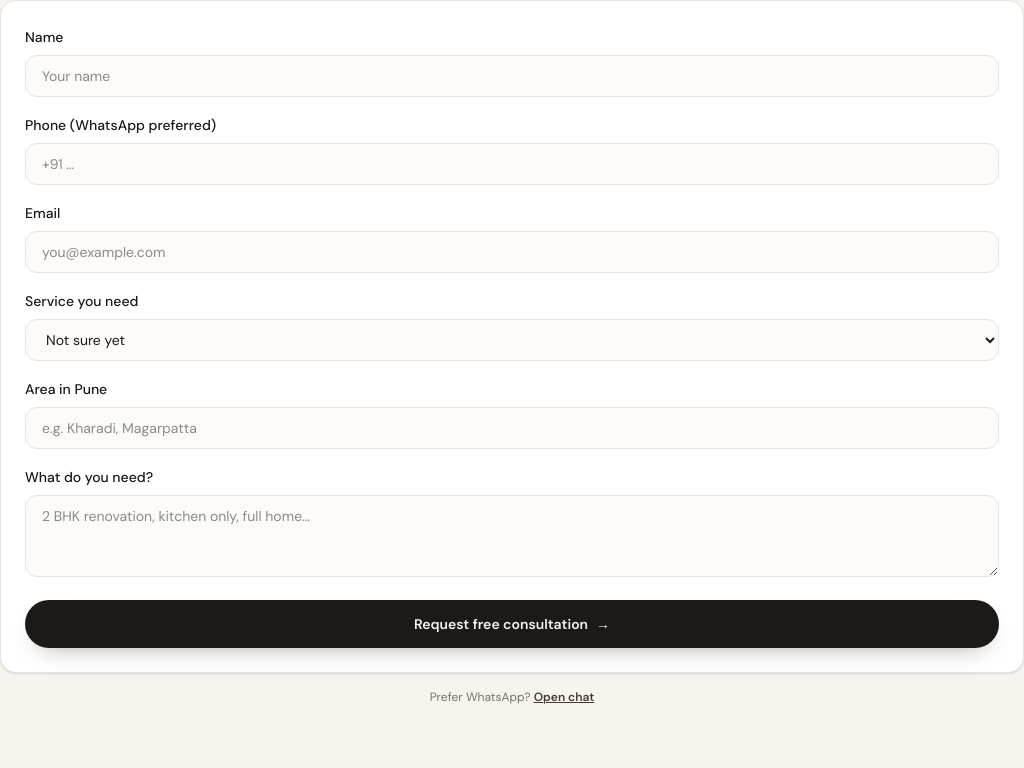
LeadForm › submits and shows success when API returns ok
Type "Test User" into the field labelled "Name" at (512, 76), box [25,55,999,97]
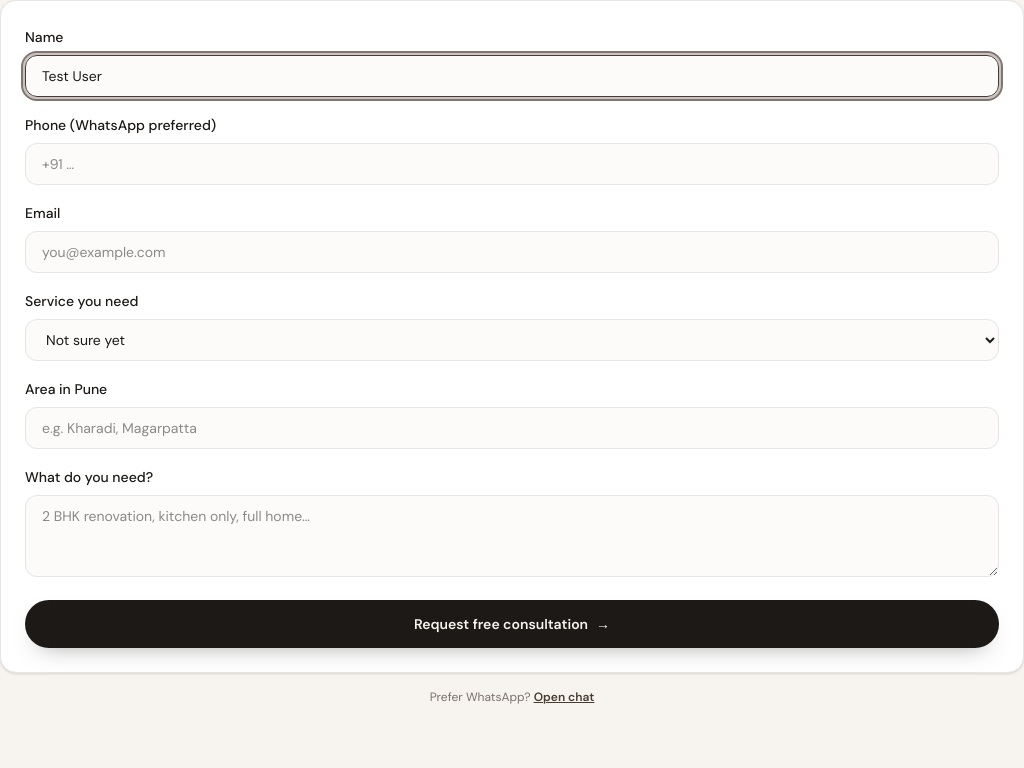
Type "9876543210" into the field labelled "Phone (WhatsApp preferred)" at (512, 164), box [25,143,999,185]
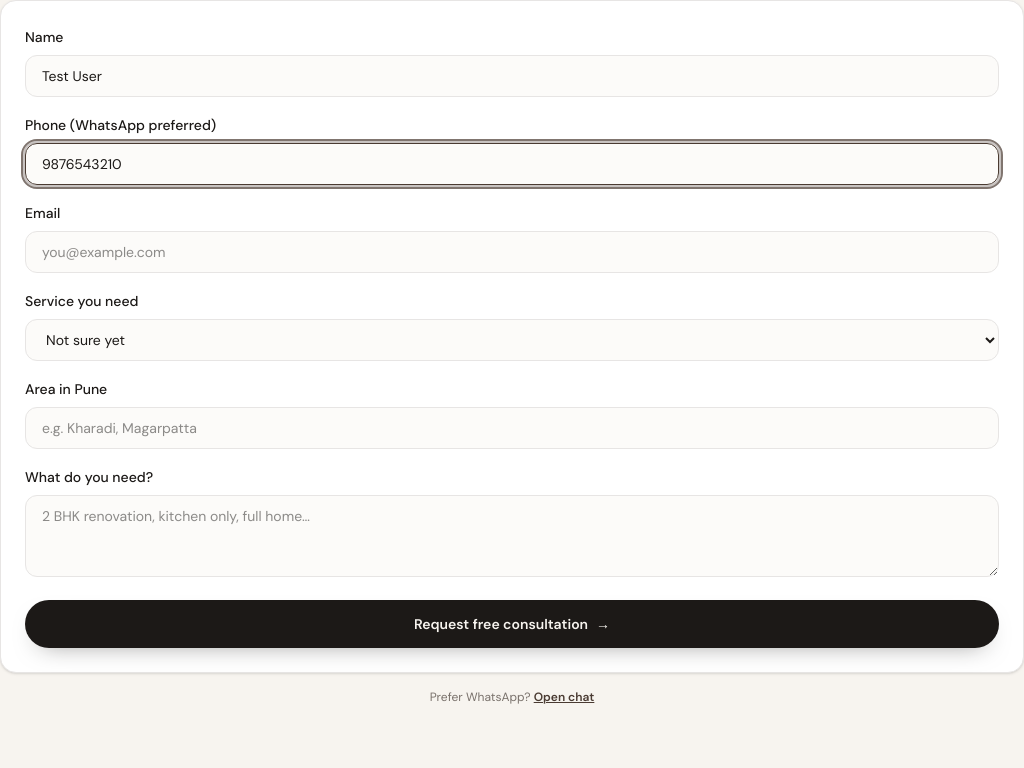
Click the button "Request free consultation →" at (512, 624), box [25,600,999,648]
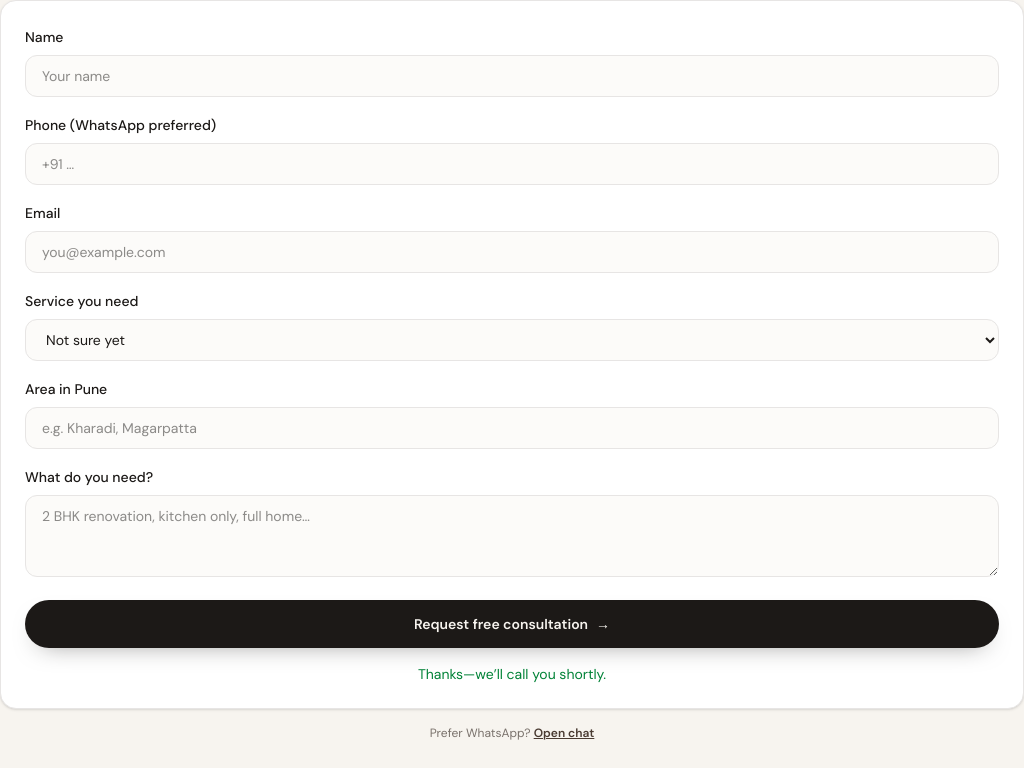
Expected: the message shows "call you shortly", [418,665,606,683]
